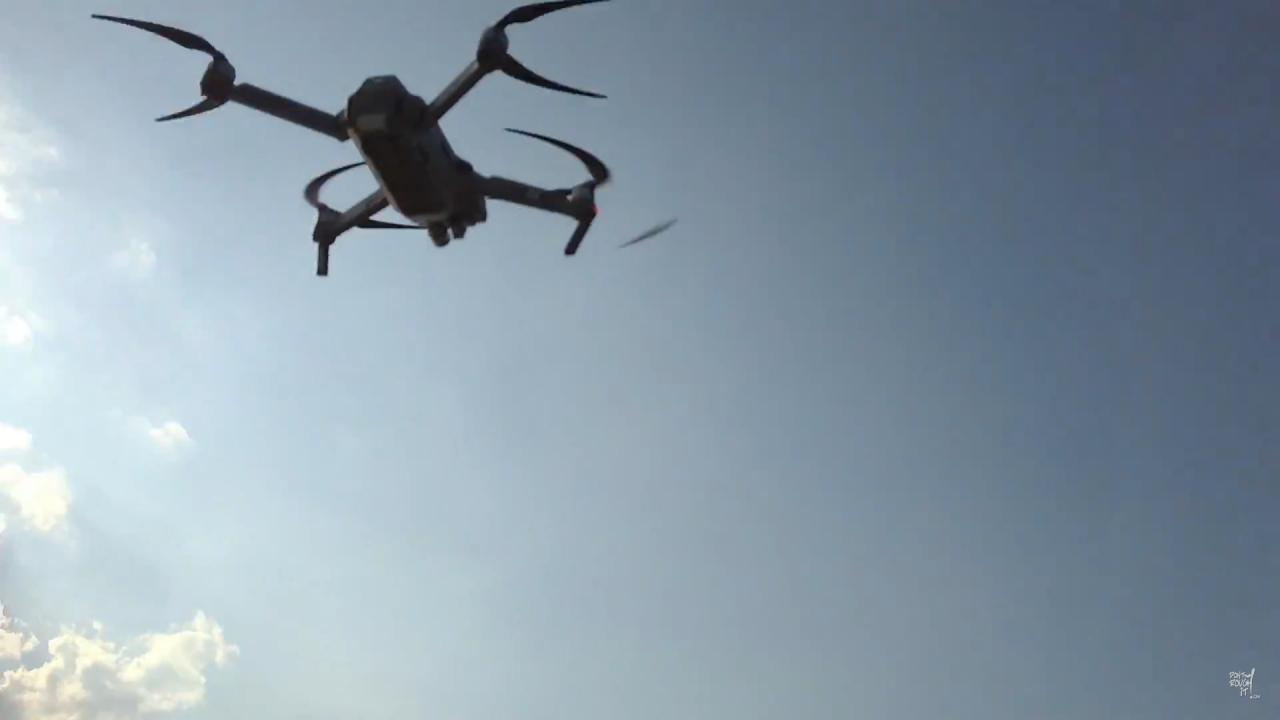Drone: (81, 0, 628, 287)
